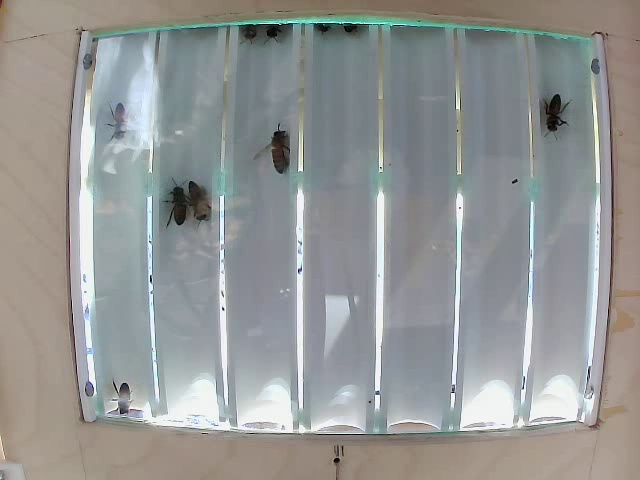bee: (255, 121, 301, 186), (153, 179, 200, 230), (189, 175, 223, 230), (542, 92, 577, 136), (96, 96, 130, 139)
